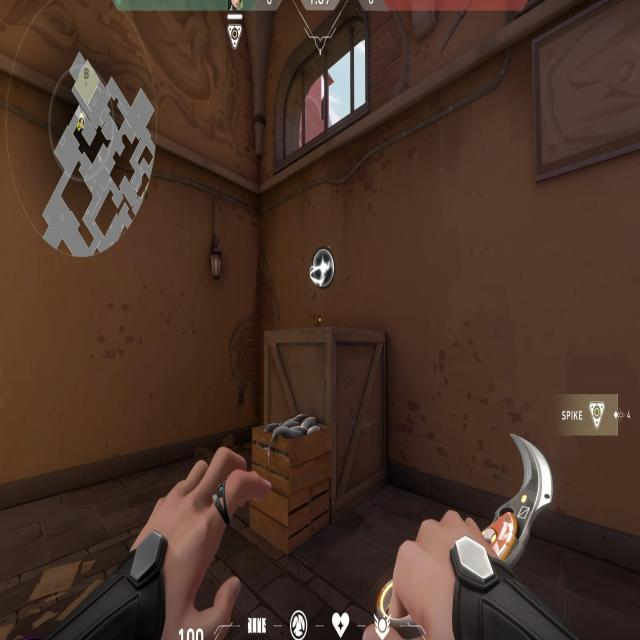B_Main_Wallbang: (244, 228, 396, 554)
Throwables: (266, 14, 384, 158)
